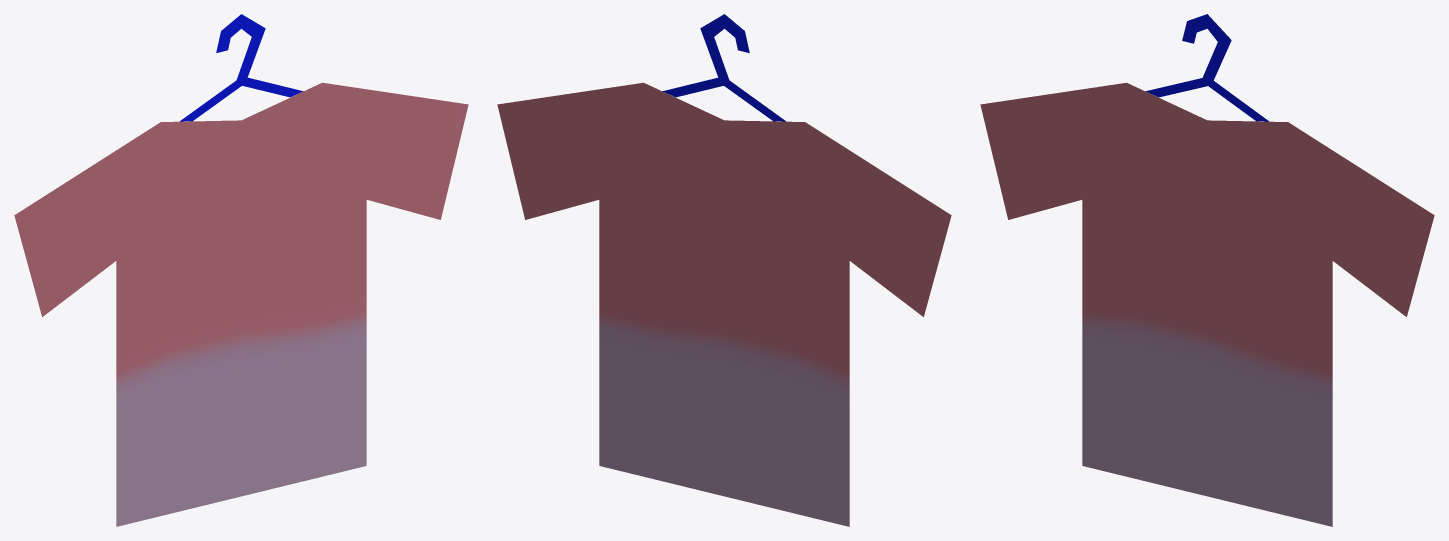
File: Shirt_3.fbx
The picture shows the model from 3 angles, left to right: view 1: azimuth 30°, elevation 25°; view 2: azimuth 150°, elevation 25°; view 3: azimuth 330°, elevation 25°; orthographic projection.
Visible parts, largest first — view 1: Maya_File_Assets:TexturedAssetsCurrent:Hanifen_Quinton_Week7; view 2: Maya_File_Assets:TexturedAssetsCurrent:Hanifen_Quinton_Week7; view 3: Maya_File_Assets:TexturedAssetsCurrent:Hanifen_Quinton_Week7.
Boxes of the visible parts, x1,y1,x2,y2 form: Maya_File_Assets:TexturedAssetsCurrent:Hanifen_Quinton_Week7: (14,14,468,526); Maya_File_Assets:TexturedAssetsCurrent:Hanifen_Quinton_Week7: (497,14,951,526); Maya_File_Assets:TexturedAssetsCurrent:Hanifen_Quinton_Week7: (980,14,1434,526).
Size of the model in its own units: 0.7362 by 0.7471 by 6.42e-14.
